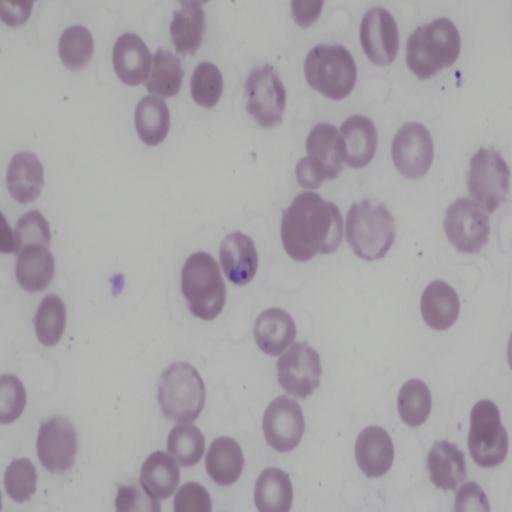Infected: (219, 231, 258, 283)
Uninfected: (280, 193, 342, 260), (179, 251, 226, 320), (406, 18, 460, 77), (157, 364, 206, 425), (345, 200, 395, 259), (304, 45, 358, 99), (466, 398, 507, 467), (467, 147, 509, 208), (244, 66, 287, 124), (443, 199, 489, 252), (261, 397, 305, 452), (276, 343, 321, 396), (391, 122, 434, 176), (36, 418, 79, 472), (360, 8, 401, 64), (303, 123, 346, 176), (354, 426, 395, 477), (419, 280, 460, 331), (338, 115, 378, 167), (6, 151, 45, 202), (112, 33, 151, 84), (253, 308, 296, 354), (145, 50, 185, 99), (139, 452, 179, 500), (427, 441, 465, 490), (205, 436, 244, 483), (15, 245, 54, 291), (136, 93, 170, 145), (396, 379, 432, 428), (170, 4, 206, 53), (13, 209, 51, 253), (254, 469, 293, 511), (58, 25, 95, 69), (34, 296, 67, 345), (190, 62, 225, 107), (167, 425, 205, 465), (4, 458, 37, 501), (0, 375, 27, 422), (173, 482, 212, 512), (295, 157, 325, 189), (454, 483, 489, 510), (115, 485, 148, 512), (0, 1, 34, 27)
